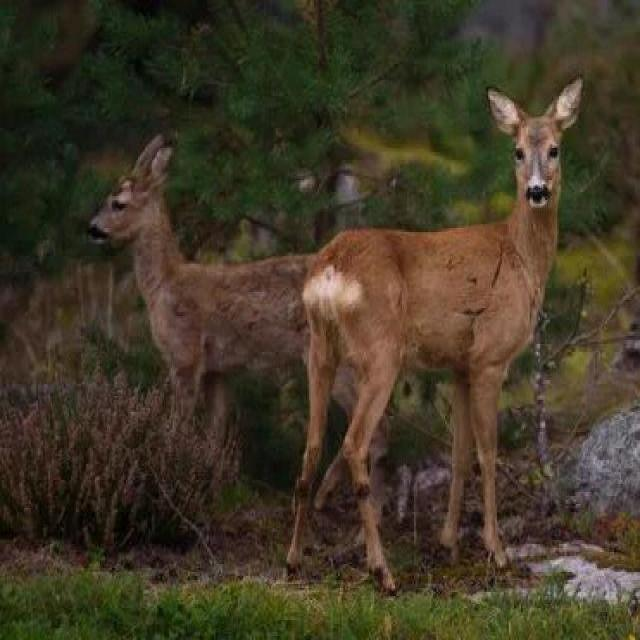deer: (310, 84, 640, 572), (117, 179, 443, 469)
